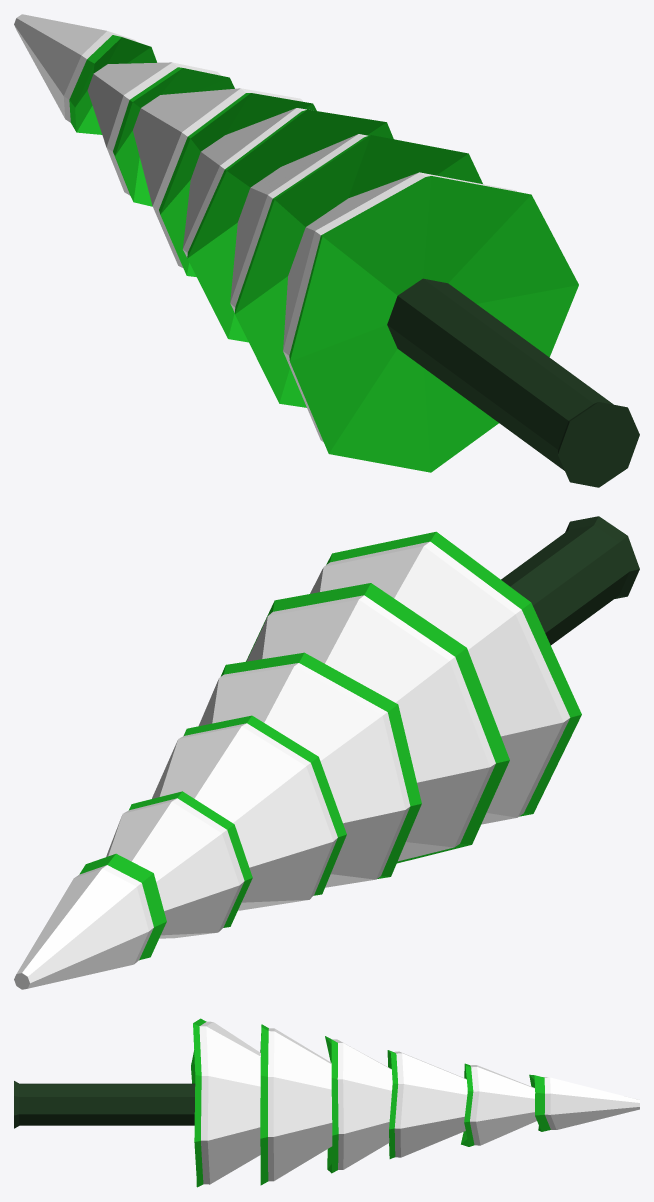
File: Pine_4_Snow.fbx
3 renders of one model, top to bottom at view 1: azimuth 30°, elevation 25°; view 2: azimuth 150°, elevation 25°; view 3: azimuth 270°, elevation 25°, orthographic. The views are drawn at different scales.
Parts seen in each view (by area): view 1: Pine_4_Snow; view 2: Pine_4_Snow; view 3: Pine_4_Snow.
Part boxes in pixels (bbox=[...]): Pine_4_Snow: bbox=[14, 14, 639, 487]; Pine_4_Snow: bbox=[14, 516, 639, 989]; Pine_4_Snow: bbox=[14, 1018, 639, 1187].
Bounding box in the file's own units: 133 × 130 × 453.
